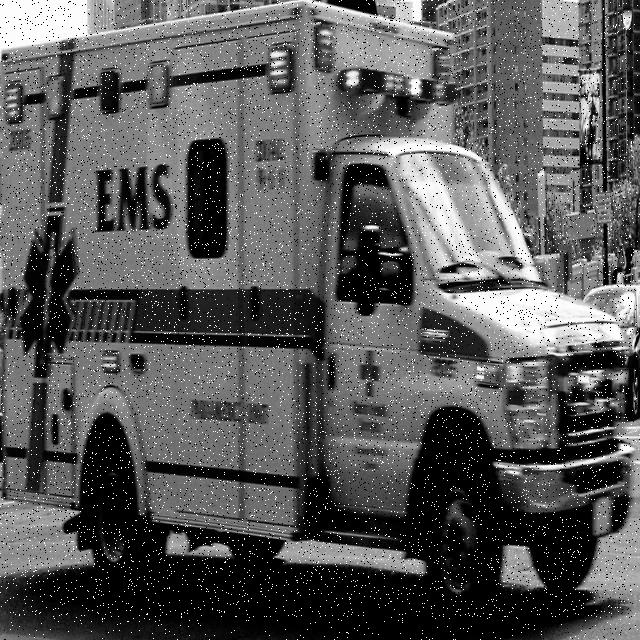Ambulance: (0, 0, 632, 617)
